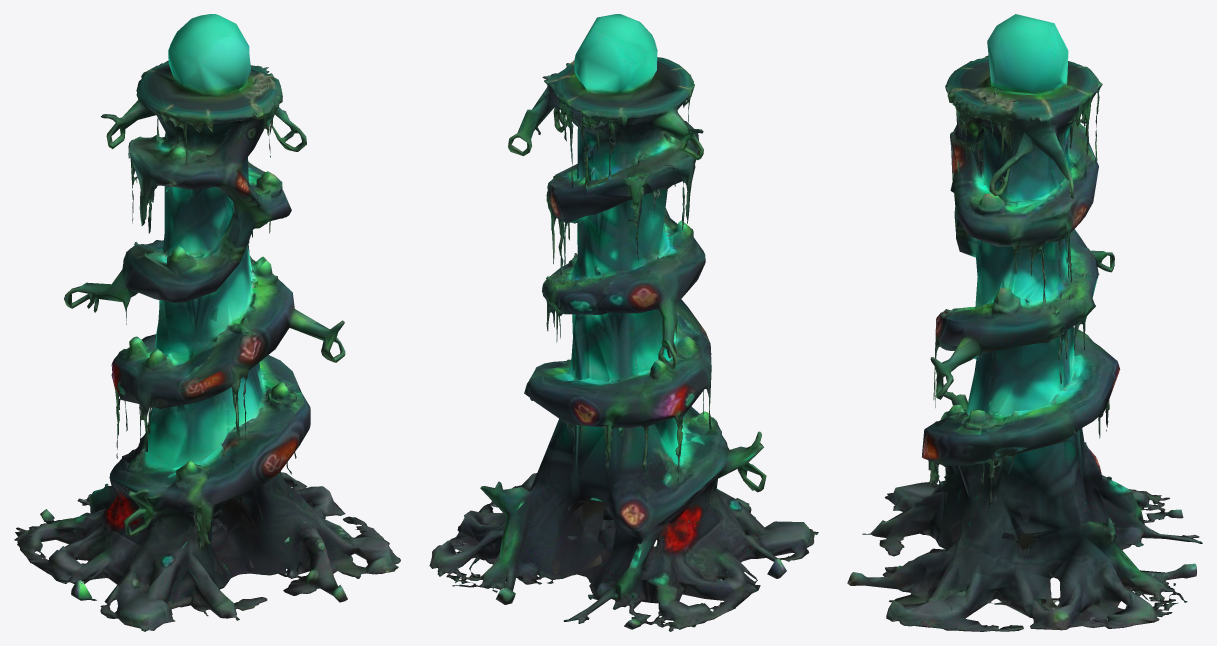
The model's file is tower_poison_opt.glb.
3 views of the same model, side by side, from view 1: azimuth 30°, elevation 25°; view 2: azimuth 150°, elevation 25°; view 3: azimuth 270°, elevation 25° (orthographic). The views are drawn at different scales.
Bounding box in the file's own units: 1.16 × 1.99 × 1.18.
Materials: 1 (1 with a texture image).
